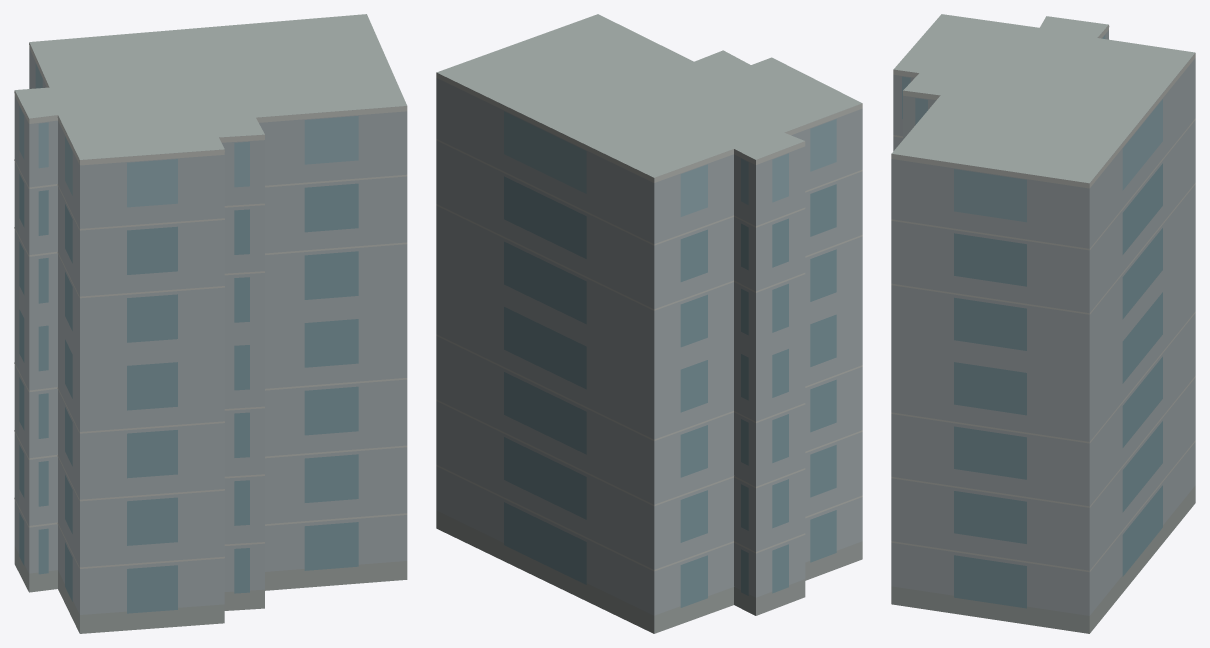
File: survey-upis-32620968.glb
3 renders of one model, left to right at view 1: azimuth 30°, elevation 25°; view 2: azimuth 150°, elevation 25°; view 3: azimuth 270°, elevation 25°, orthographic. The views are drawn at different scales.
Parts seen in each view (by area): view 1: survey-upis-32620968.tmp; view 2: survey-upis-32620968.tmp; view 3: survey-upis-32620968.tmp.
Boxes of the visible parts, x1,y1,x2,y2 form: survey-upis-32620968.tmp: (14,14,407,633); survey-upis-32620968.tmp: (436,14,862,633); survey-upis-32620968.tmp: (891,14,1195,633).
Bounding box in the file's own units: 17.03 × 21.1 × 12.93.
